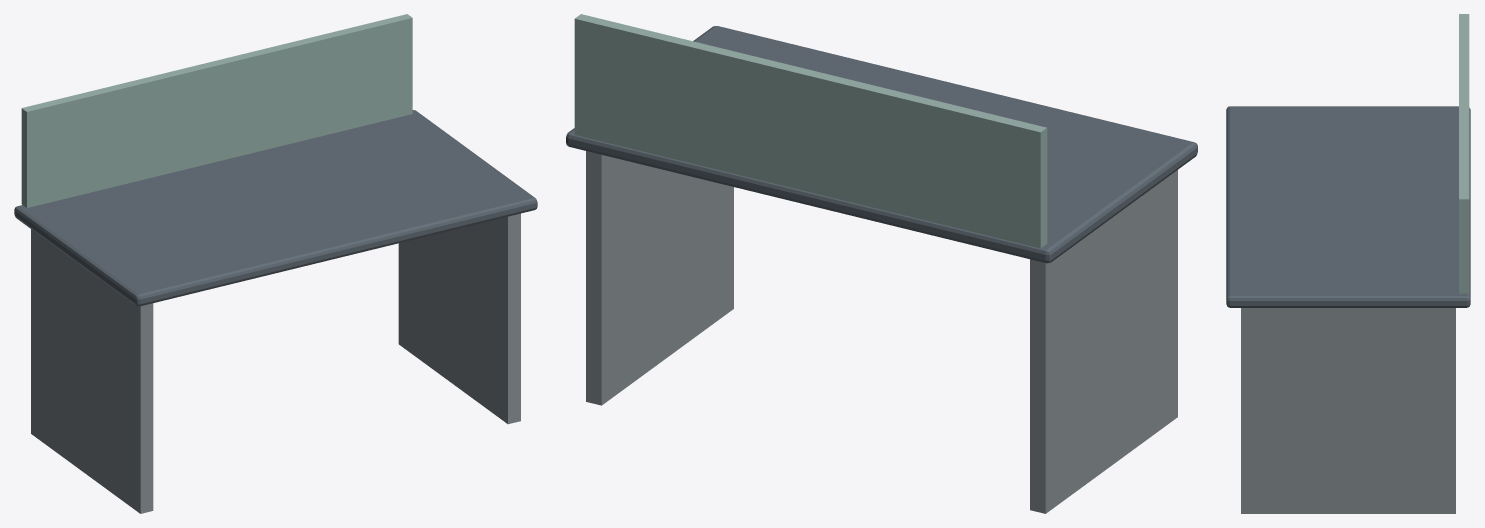
Rendered from ai.desk-single.glb.
3 views of the same model, side by side, from view 1: azimuth 30°, elevation 25°; view 2: azimuth 150°, elevation 25°; view 3: azimuth 270°, elevation 25° (orthographic). The views are drawn at different scales.
Visible parts, largest first — view 1: Hero_Asset; view 2: Hero_Asset; view 3: Hero_Asset.
Boxes of the visible parts, x1,y1,x2,y2 form: Hero_Asset: [14, 14, 537, 513]; Hero_Asset: [566, 14, 1197, 513]; Hero_Asset: [1226, 14, 1470, 513].
Bounding box in the file's own units: 0.9813 × 0.75 × 0.5257.
